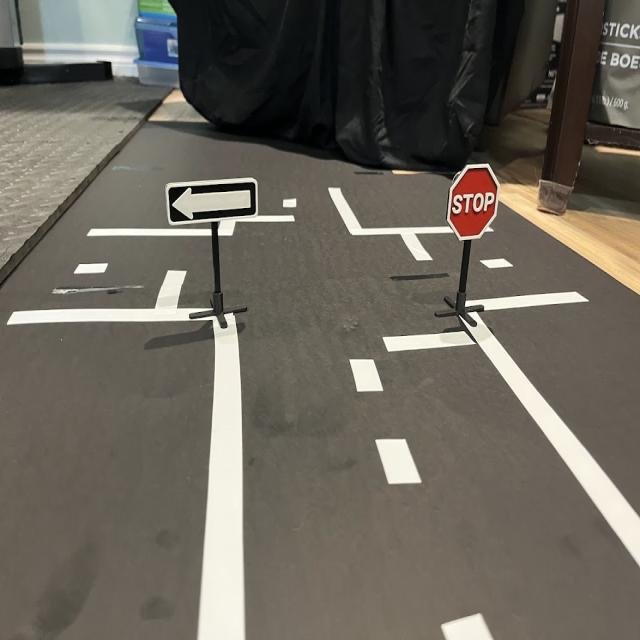sign_oneway_left: (166, 178, 259, 230)
sign_stop: (446, 164, 503, 244)
